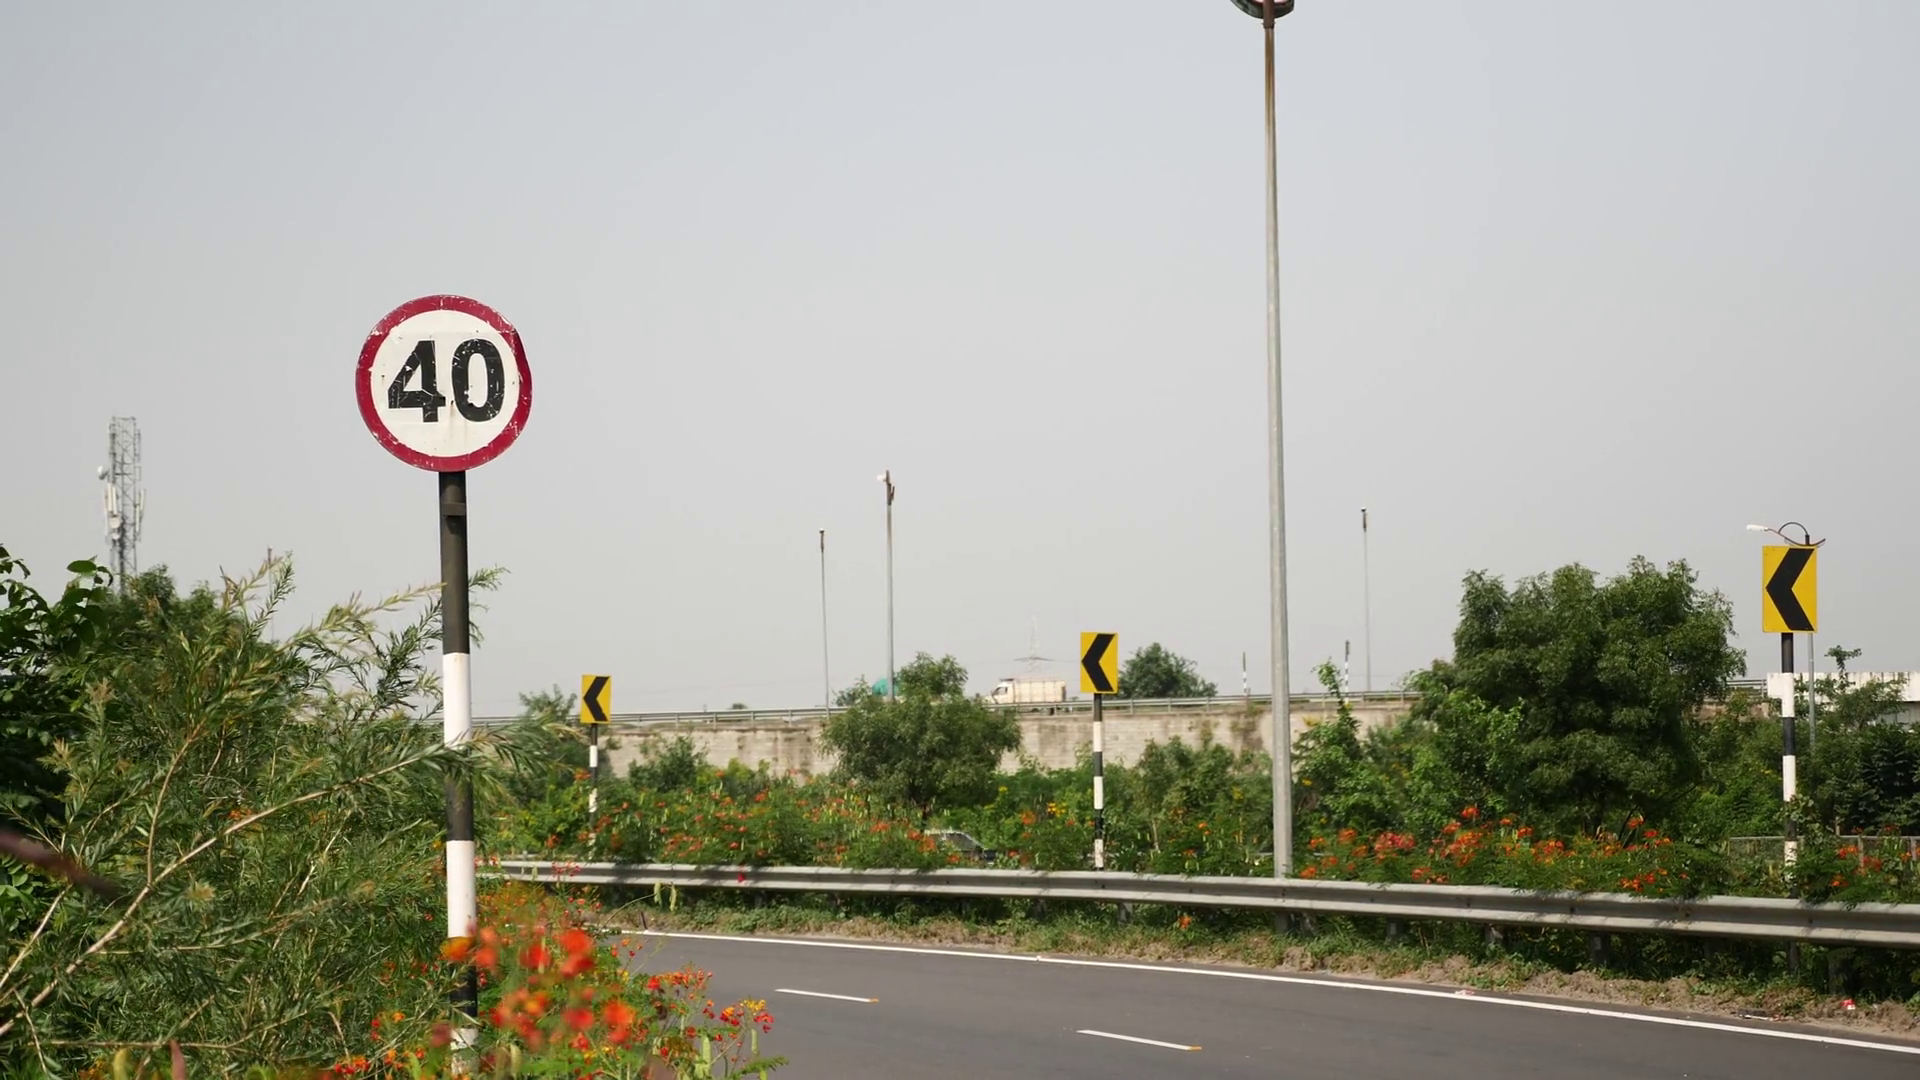40 Km/hr: (355, 295, 530, 472)
